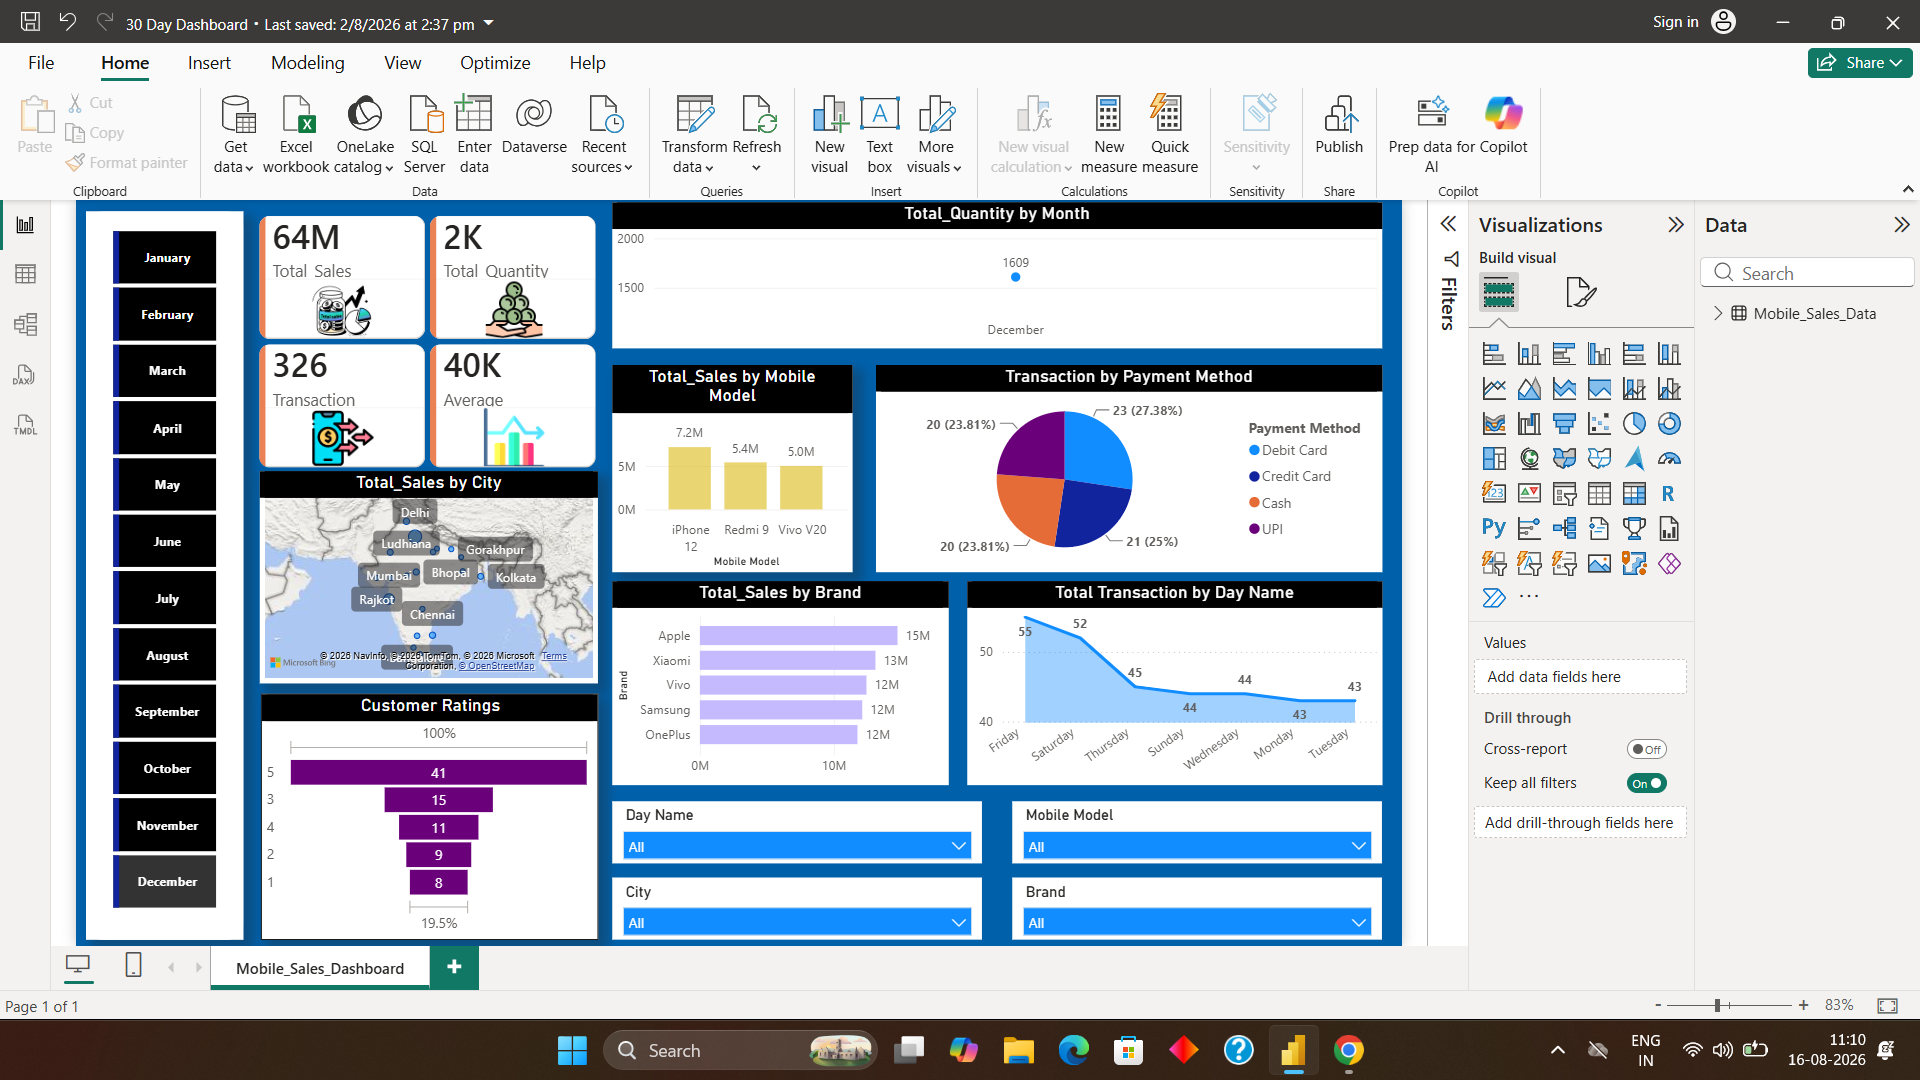

The dashboard page shown, as its layout file describes it:
{"tool":"powerbi","page":{"name":"First_Dashboard","canvas":[1280,720],"ordinal":0},"visuals":[{"type":"shape","box":[9.7,10.9,152,703.4],"z":0},{"type":"slicer","fields":{"Values":["Mobile_Sales_Data.Date.Variation.Date Hierarchy.Month"]},"box":[9.7,22.9,149.6,667.2],"z":1000},{"type":"cardVisual","fields":{"Data":["Mobile_Sales_Data.Total_Sales","Mobile_Sales_Data.Total_Quantity","Mobile_Sales_Data.Transaction","Mobile_Sales_Data.Average"]},"box":[161.9,0,355.4,273.1],"z":2000},{"type":"map","fields":{"Category":["Mobile_Sales_Data.City"],"Size":["Mobile_Sales_Data.Total_Sales"]},"box":[177,262.1,326.6,204.5],"z":3000},{"type":"lineChart","fields":{"Y":["Mobile_Sales_Data.Total_Quantity"],"Category":["Mobile_Sales_Data.Date.Variation.Date Hierarchy.Month","Mobile_Sales_Data.Date.Variation.Date Hierarchy.Day"]},"box":[517.6,2.4,743.2,141.2],"z":4000},{"type":"clusteredColumnChart","fields":{"Category":["Mobile_Sales_Data.Mobile Model"],"Y":["Mobile_Sales_Data.Total_Sales"]},"box":[517.3,159.2,231.9,200.3],"z":5000},{"type":"pieChart","fields":{"Y":["Mobile_Sales_Data.Transaction"],"Category":["Mobile_Sales_Data.Payment Method"]},"box":[772.6,159.2,488.5,200.3],"z":6000},{"type":"funnel","title":"Customer Ratings","fields":{"Category":["Mobile_Sales_Data.Customer Ratings"],"Y":["CountNonNull(Mobile_Sales_Data.Customer Ratings)"]},"box":[178.6,476.5,325.7,237.7],"z":7000},{"type":"clusteredBarChart","fields":{"Category":["Mobile_Sales_Data.Brand"],"Y":["Mobile_Sales_Data.Total_Sales"]},"box":[517.6,368,324.5,196.6],"z":8000},{"type":"areaChart","title":"Total Transaction by Day Name","fields":{"Category":["Mobile_Sales_Data.Day Name"],"Y":["Mobile_Sales_Data.Transaction"]},"box":[860.2,368,400.5,196.6],"z":9000},{"type":"slicer","fields":{"Values":["Mobile_Sales_Data.City"]},"box":[517.6,653.9,357.1,60.3],"z":10000},{"type":"slicer","fields":{"Values":["Mobile_Sales_Data.Brand"]},"box":[903.6,653.9,357.1,60.3],"z":11000},{"type":"slicer","fields":{"Values":["Mobile_Sales_Data.Mobile Model"]},"box":[903.6,580.3,357.1,60.3],"z":12000},{"type":"slicer","fields":{"Values":["Mobile_Sales_Data.Day Name"]},"box":[517.6,580.3,357.1,60.3],"z":13000}]}

Visuals, with their boxes on the page's 1280x720 design canvas (x1, y1, x2, y2). These are canvas units, not pixel positions in the 1920x1080 screenshot, which may show the page scaled, cropped or inside an application window:
shape: BBox(10, 11, 162, 714)
slicer - Mobile_Sales_Data.Date.Variation.Date Hierarchy.Month: BBox(10, 23, 159, 690)
cardVisual - Mobile_Sales_Data.Total_Sales x Mobile_Sales_Data.Total_Quantity: BBox(162, 0, 517, 273)
map - Mobile_Sales_Data.City x Mobile_Sales_Data.Total_Sales: BBox(177, 262, 504, 467)
lineChart - Mobile_Sales_Data.Total_Quantity x Mobile_Sales_Data.Date.Variation.Date Hierarchy.Month: BBox(518, 2, 1261, 144)
clusteredColumnChart - Mobile_Sales_Data.Mobile Model x Mobile_Sales_Data.Total_Sales: BBox(517, 159, 749, 360)
pieChart - Mobile_Sales_Data.Transaction x Mobile_Sales_Data.Payment Method: BBox(773, 159, 1261, 360)
"Customer Ratings" funnel: BBox(179, 476, 504, 714)
clusteredBarChart - Mobile_Sales_Data.Brand x Mobile_Sales_Data.Total_Sales: BBox(518, 368, 842, 565)
"Total Transaction by Day Name" areaChart: BBox(860, 368, 1261, 565)
slicer - Mobile_Sales_Data.City: BBox(518, 654, 875, 714)
slicer - Mobile_Sales_Data.Brand: BBox(904, 654, 1261, 714)
slicer - Mobile_Sales_Data.Mobile Model: BBox(904, 580, 1261, 641)
slicer - Mobile_Sales_Data.Day Name: BBox(518, 580, 875, 641)
